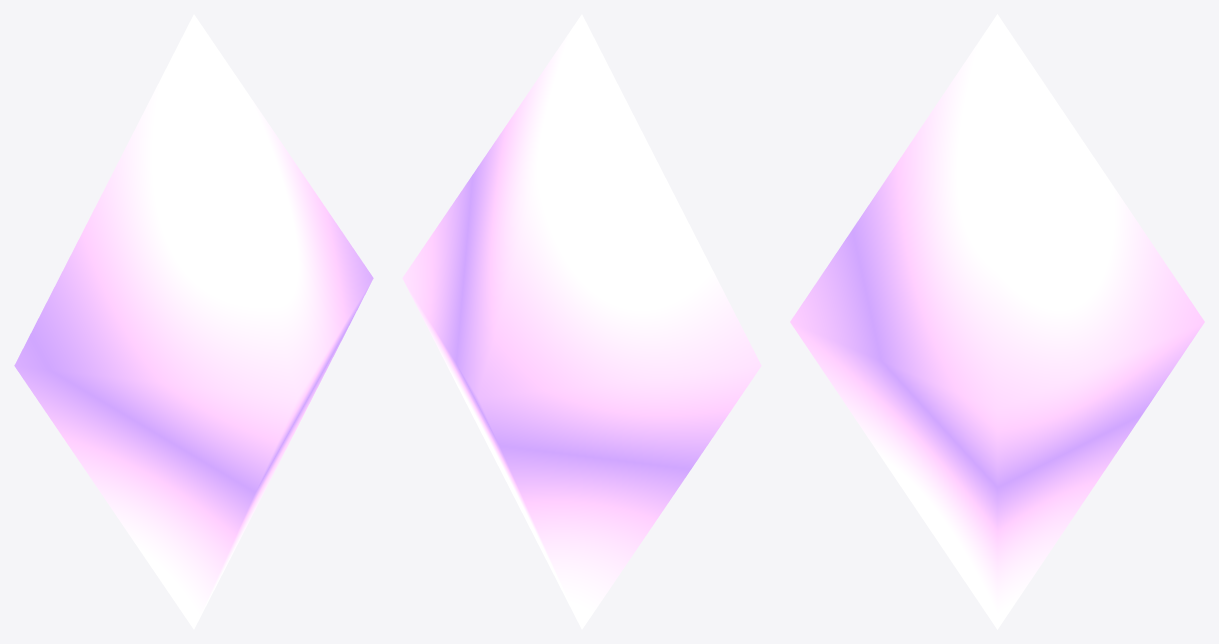
File: farcaster-arch.gltf
3 renders of one model, left to right at view 1: azimuth 30°, elevation 25°; view 2: azimuth 150°, elevation 25°; view 3: azimuth 270°, elevation 25°, orthographic.
Parts seen in each view (by area): view 1: FarcasterCrystalNode; view 2: FarcasterCrystalNode; view 3: FarcasterCrystalNode.
Part boxes in pixels (<box>): FarcasterCrystalNode: <box>14,14,373,629</box>; FarcasterCrystalNode: <box>402,14,761,629</box>; FarcasterCrystalNode: <box>790,14,1204,629</box>.
Size of the model in its own units: 1.16 by 1.9 by 1.16.
